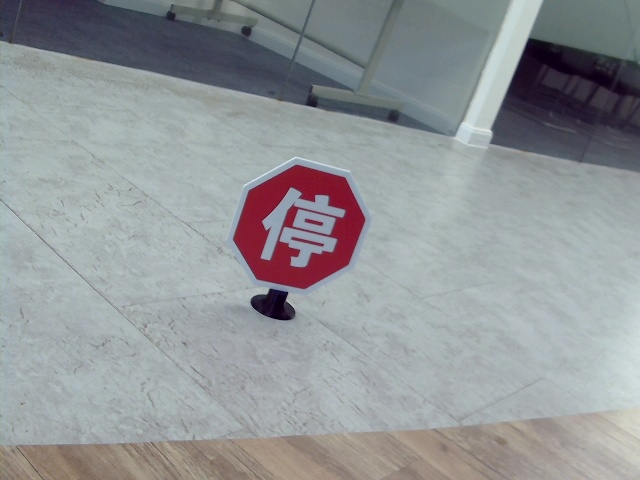stop: (261, 186, 337, 267)
